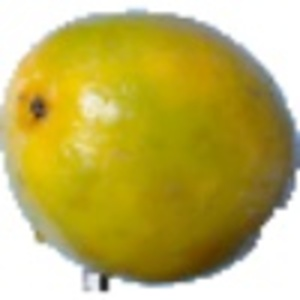maracujá: (1, 6, 300, 290)
